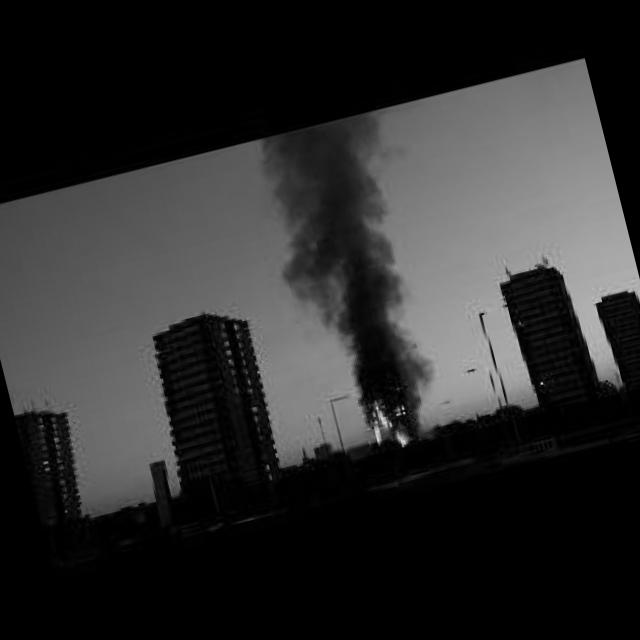fire: (358, 397, 414, 453)
smoke: (249, 109, 456, 417)
